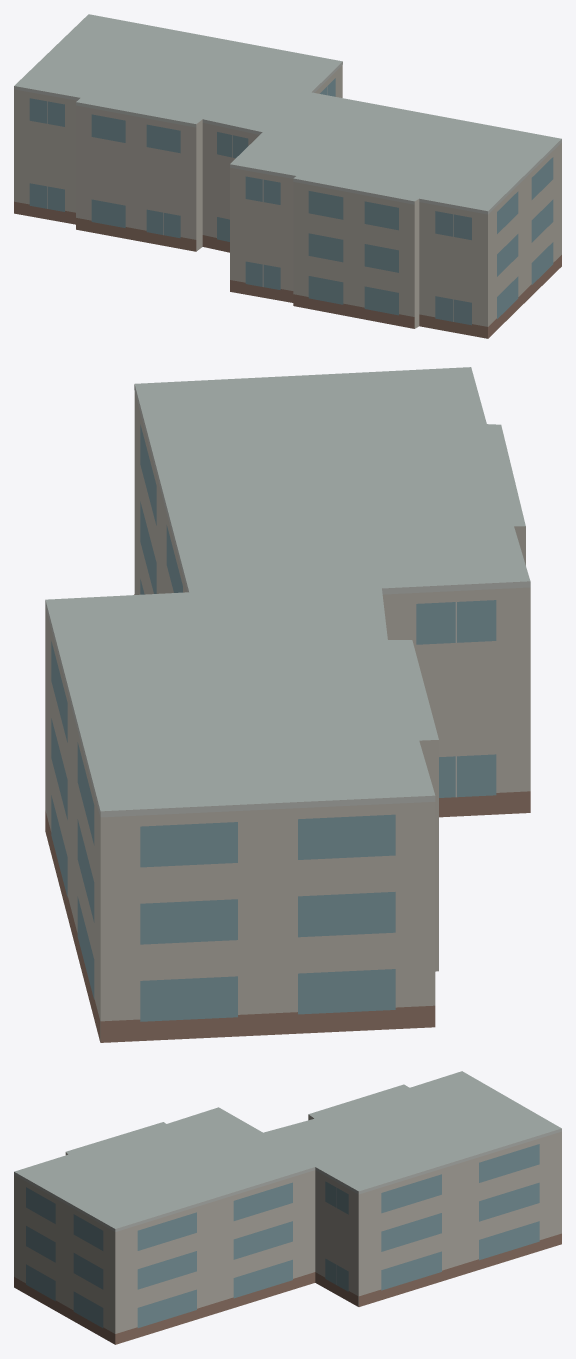
The model's file is survey-upis-32645689.glb.
The picture shows the model from 3 angles, top to bottom: view 1: azimuth 30°, elevation 25°; view 2: azimuth 150°, elevation 25°; view 3: azimuth 270°, elevation 25°; orthographic projection. The views are drawn at different scales.
Visible parts, largest first — view 1: survey-upis-32645689.tmp; view 2: survey-upis-32645689.tmp; view 3: survey-upis-32645689.tmp.
Part boxes in pixels (x1,y1,x2,y2): survey-upis-32645689.tmp: (14, 14, 561, 338); survey-upis-32645689.tmp: (45, 367, 530, 1042); survey-upis-32645689.tmp: (14, 1071, 561, 1344).
Size of the model in its own units: 26.79 by 9.15 by 39.25.
